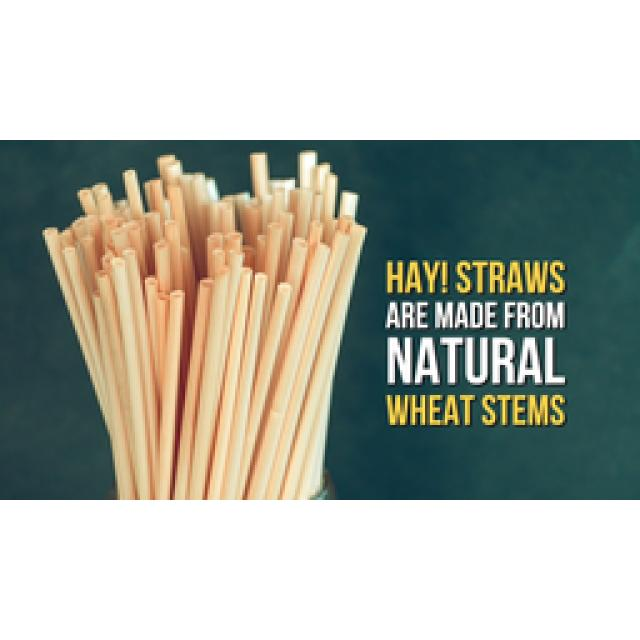plastic: (38, 148, 368, 498)
